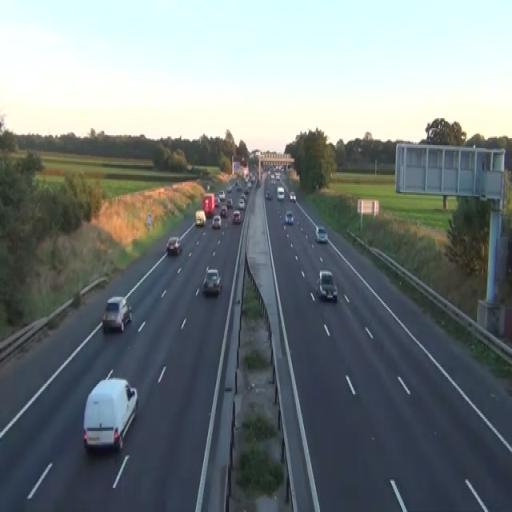Car: (82, 376, 140, 454), (102, 296, 132, 333), (316, 270, 338, 303), (202, 268, 224, 297), (166, 236, 181, 256), (314, 226, 328, 243), (196, 210, 206, 228), (212, 215, 222, 229), (232, 210, 242, 224), (285, 210, 294, 224), (277, 186, 285, 200)
Truck: (83, 376, 139, 454), (202, 194, 216, 218)
